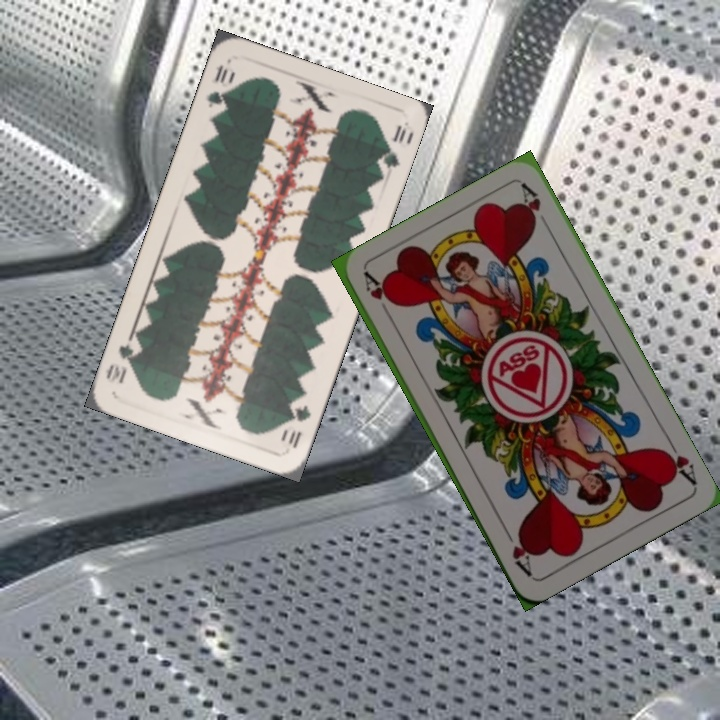G10: (203, 60, 238, 110), (283, 401, 314, 451)
HA: (655, 434, 699, 488), (360, 269, 396, 324)
